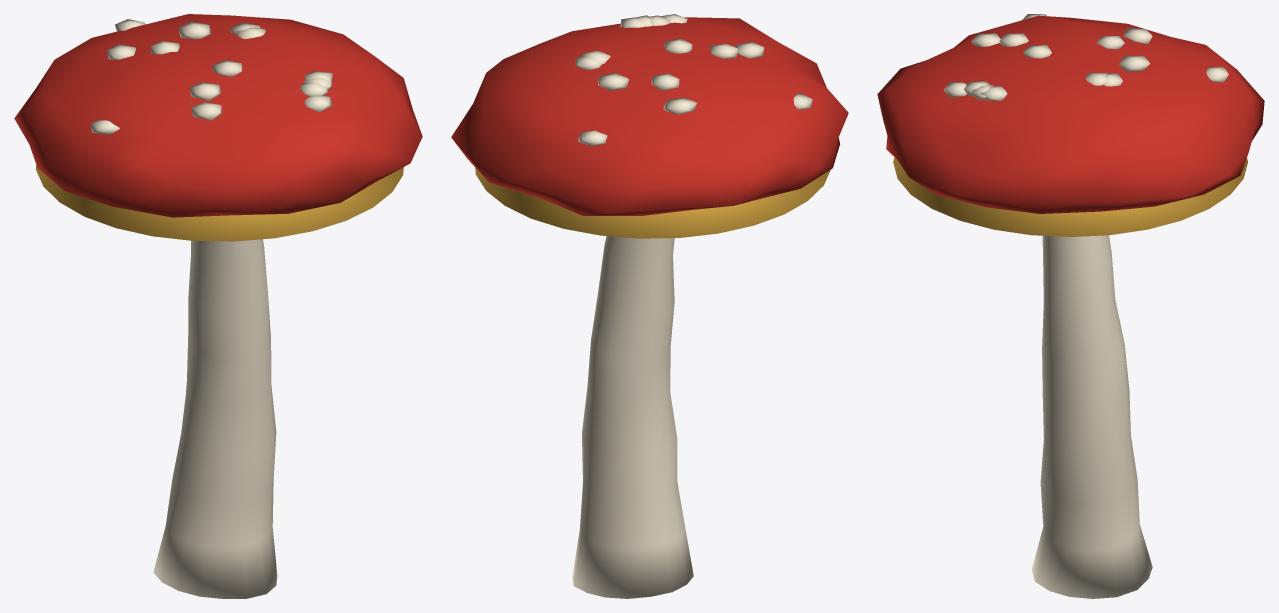
Rendered from fk_giant_mushroom_red.fbx.
3 renders of one model, left to right at view 1: azimuth 30°, elevation 25°; view 2: azimuth 150°, elevation 25°; view 3: azimuth 270°, elevation 25°, orthographic. The views are drawn at different scales.
Visible parts, largest first — view 1: fk_giant_mushroom_red; view 2: fk_giant_mushroom_red; view 3: fk_giant_mushroom_red.
Part boxes in pixels (x1=…): fk_giant_mushroom_red: x1=14, y1=14, x2=422, y2=598; fk_giant_mushroom_red: x1=451, y1=14, x2=848, y2=598; fk_giant_mushroom_red: x1=877, y1=14, x2=1264, y2=598.
Bounding box in the file's own units: 670 × 1019 × 690.
